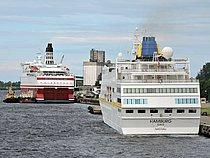Ship: (99, 25, 208, 141), (22, 45, 80, 106)
